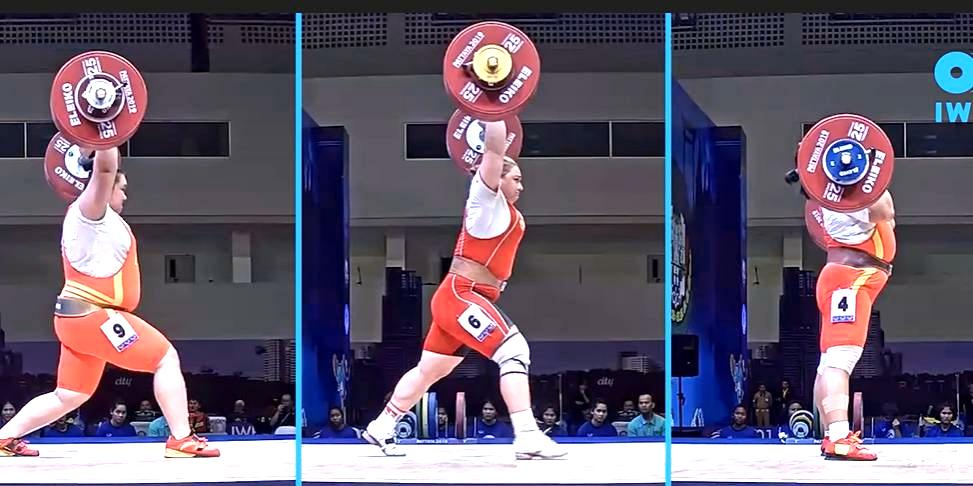Barbell: (483, 52, 504, 74), (90, 85, 112, 104), (839, 150, 857, 169)
